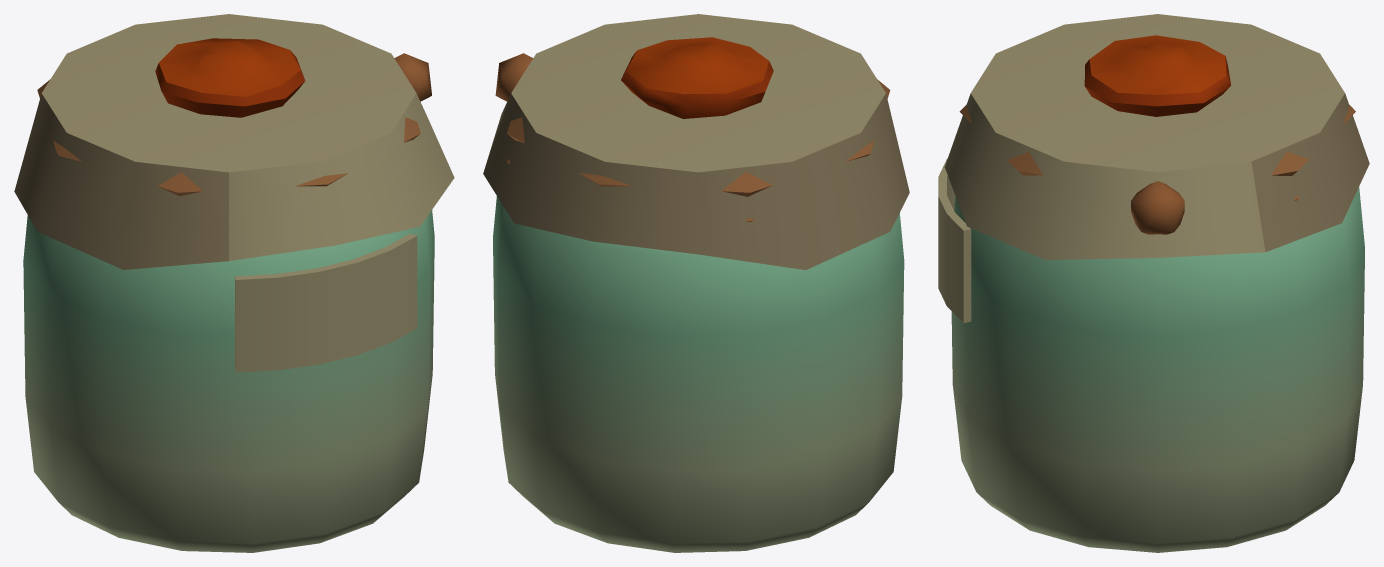
Rendered from Madde_Nisadir.fbx.
The picture shows the model from 3 angles, left to right: view 1: azimuth 30°, elevation 25°; view 2: azimuth 150°, elevation 25°; view 3: azimuth 270°, elevation 25°; orthographic projection.
Parts seen in each view (by area): view 1: Madde_Nisadir_Model; view 2: Madde_Nisadir_Model; view 3: Madde_Nisadir_Model.
Part boxes in pixels (x1,y1,x2,y2): Madde_Nisadir_Model: (14,14,454,552); Madde_Nisadir_Model: (483,14,909,552); Madde_Nisadir_Model: (938,14,1369,552).
Bounding box in the file's own units: 0.1314 × 0.1383 × 0.1258.
